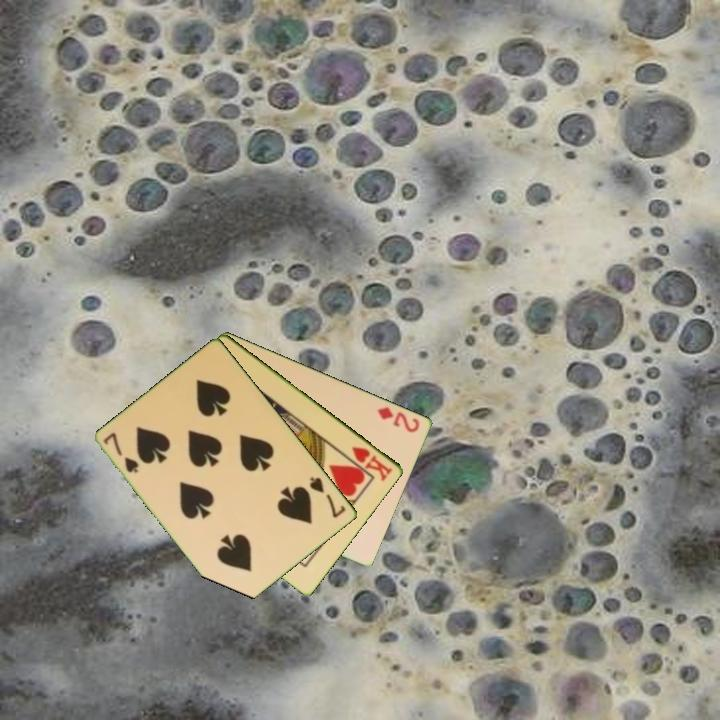2d: (374, 403, 423, 435)
7s: (306, 473, 349, 521), (100, 429, 142, 476)
Kh: (348, 443, 396, 484)
